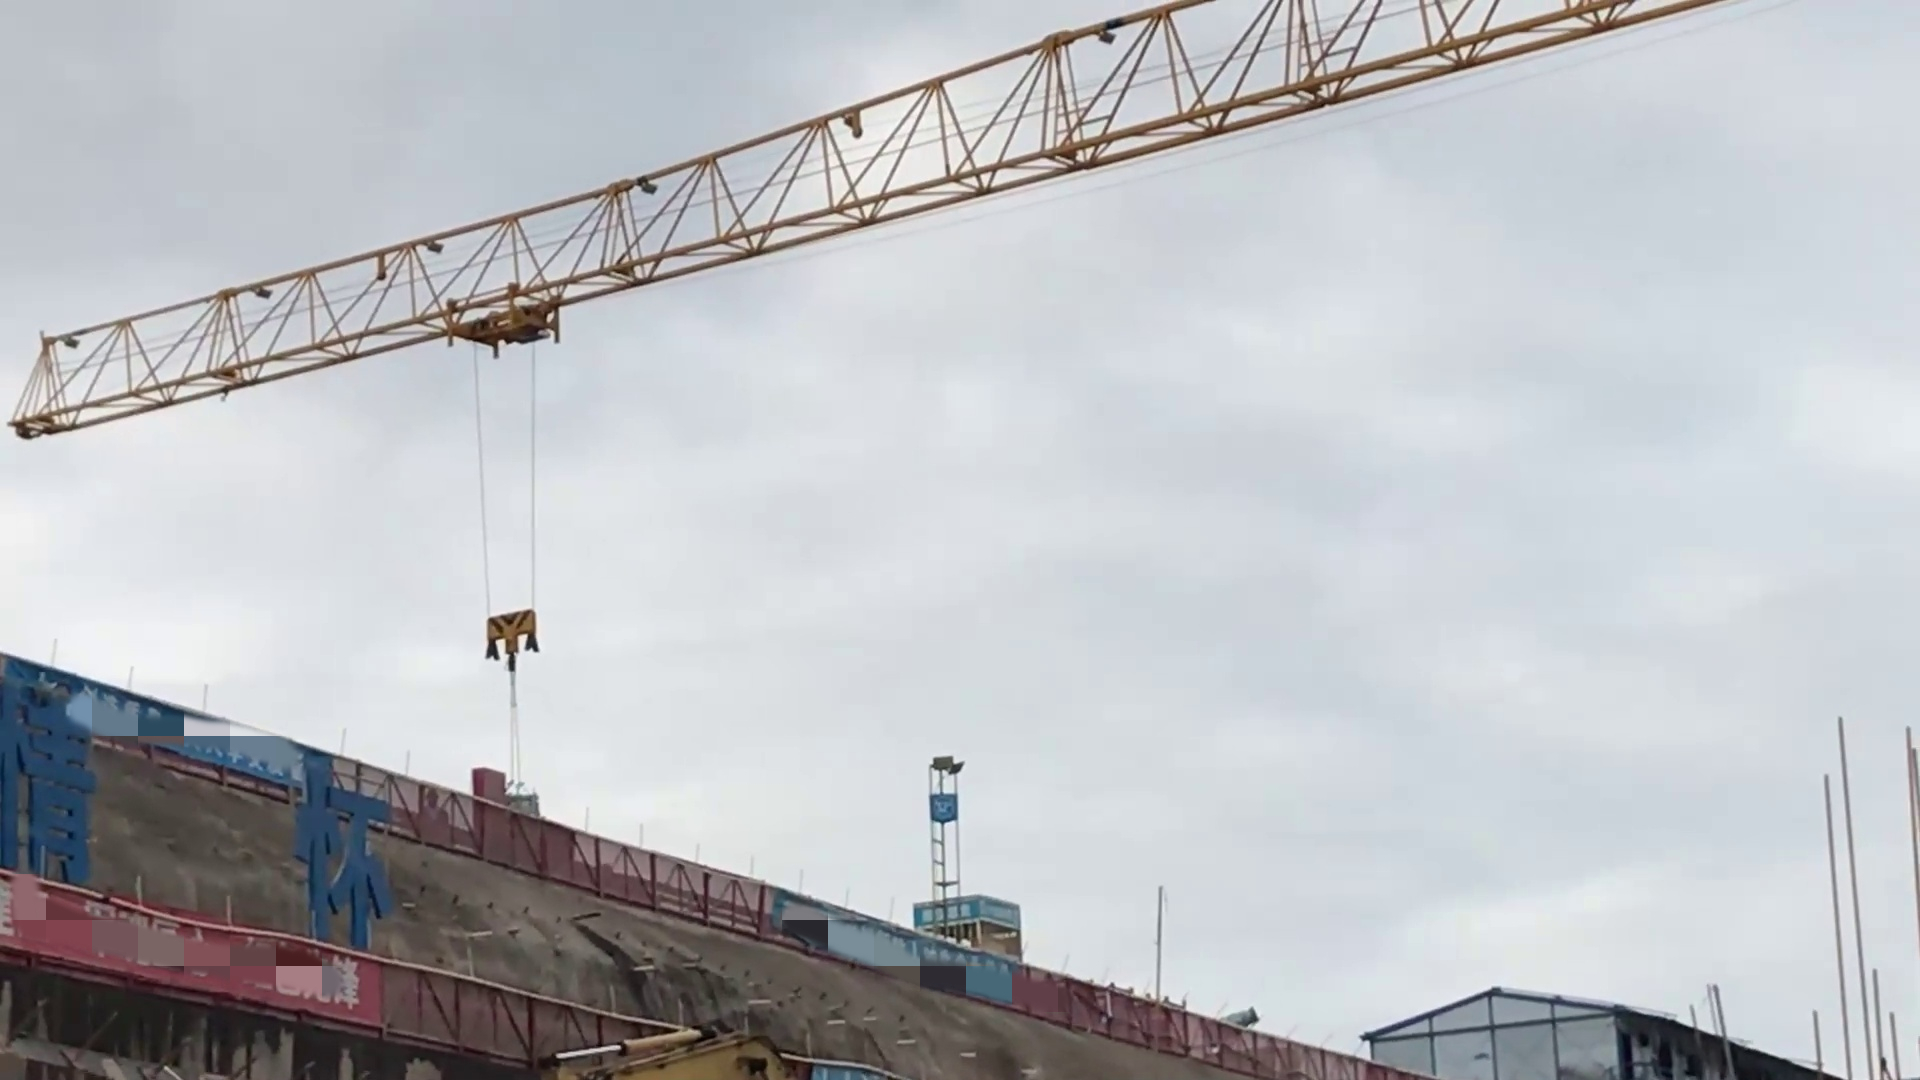hook: (483, 608, 545, 676)
slogan: (1, 866, 385, 1031)
